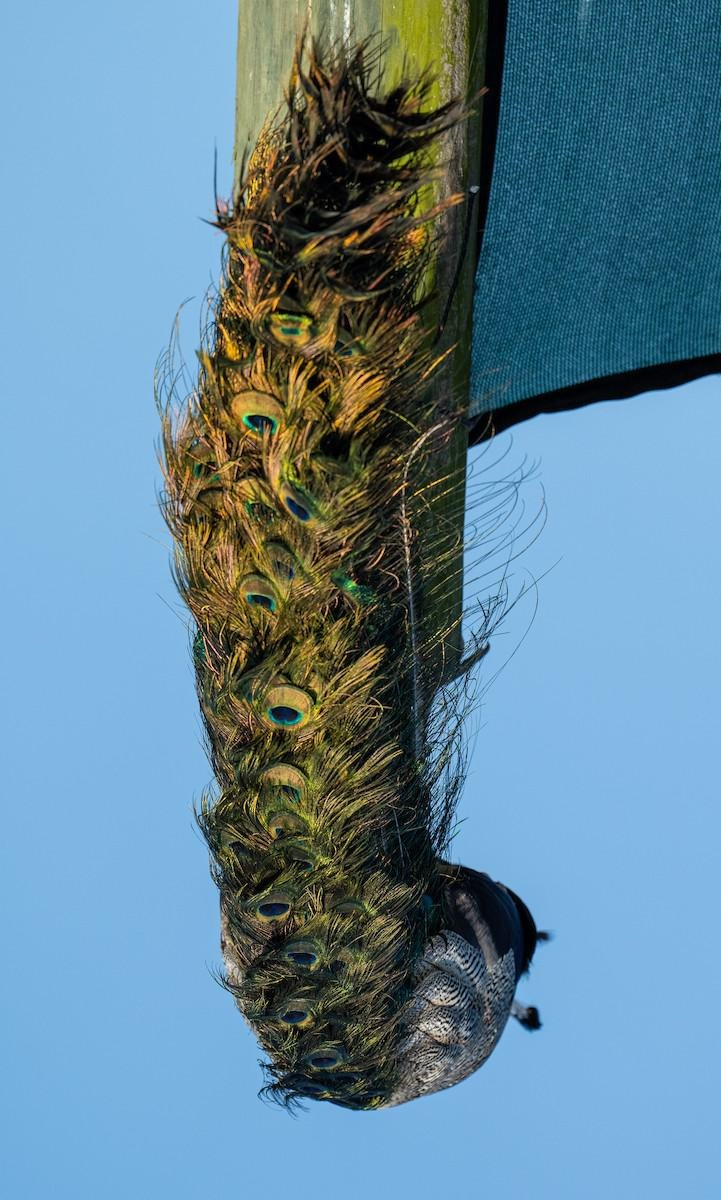peacock: (160, 78, 568, 1149)
